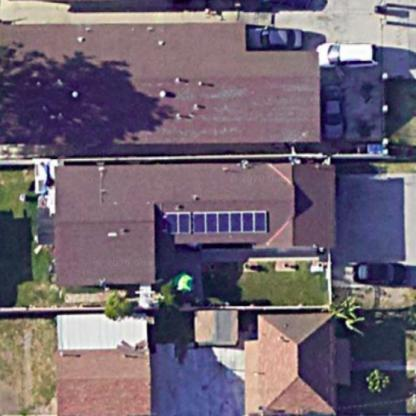car: (311, 33, 387, 76), (244, 20, 306, 53), (348, 255, 404, 291), (318, 84, 351, 144)
solar_panel: (162, 206, 281, 237)
